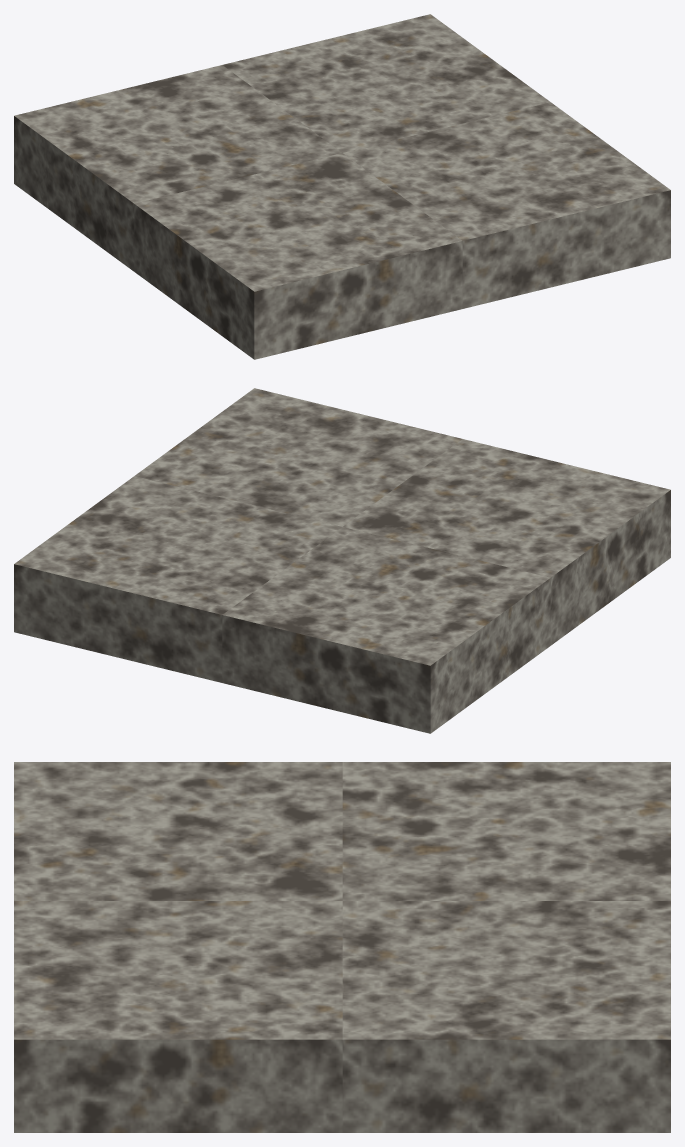
The model's file is floor_foundation_stone.glb.
The picture shows the model from 3 angles, top to bottom: view 1: azimuth 30°, elevation 25°; view 2: azimuth 150°, elevation 25°; view 3: azimuth 270°, elevation 25°; orthographic projection. The views are drawn at different scales.
Visible parts, largest first — view 1: town_floor_foundation_stone; view 2: town_floor_foundation_stone; view 3: town_floor_foundation_stone.
Part boxes in pixels (left/top/right/bottom): town_floor_foundation_stone: left=14, top=14, right=670, bottom=359; town_floor_foundation_stone: left=14, top=388, right=670, bottom=733; town_floor_foundation_stone: left=14, top=762, right=670, bottom=1132.
Bounding box in the file's own units: 1 × 0.1562 × 1.
Materials: 1 (1 with a texture image).
